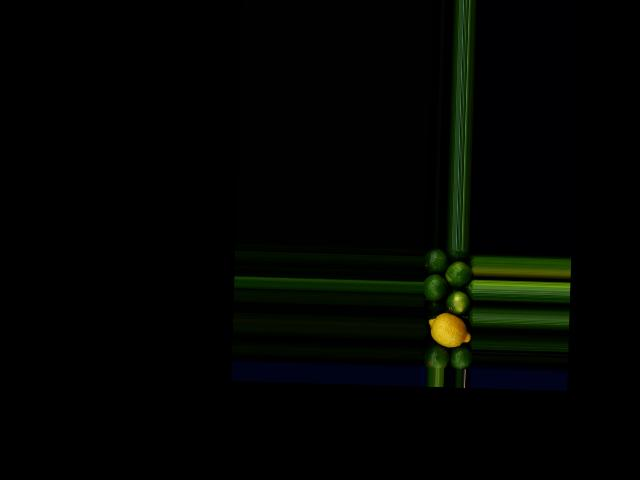lemon: (427, 311, 471, 348)
